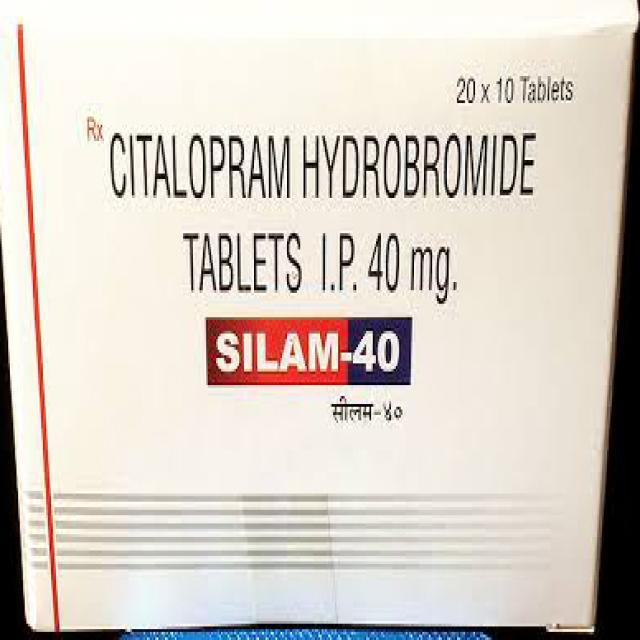drug-name: (201, 323, 403, 374)
